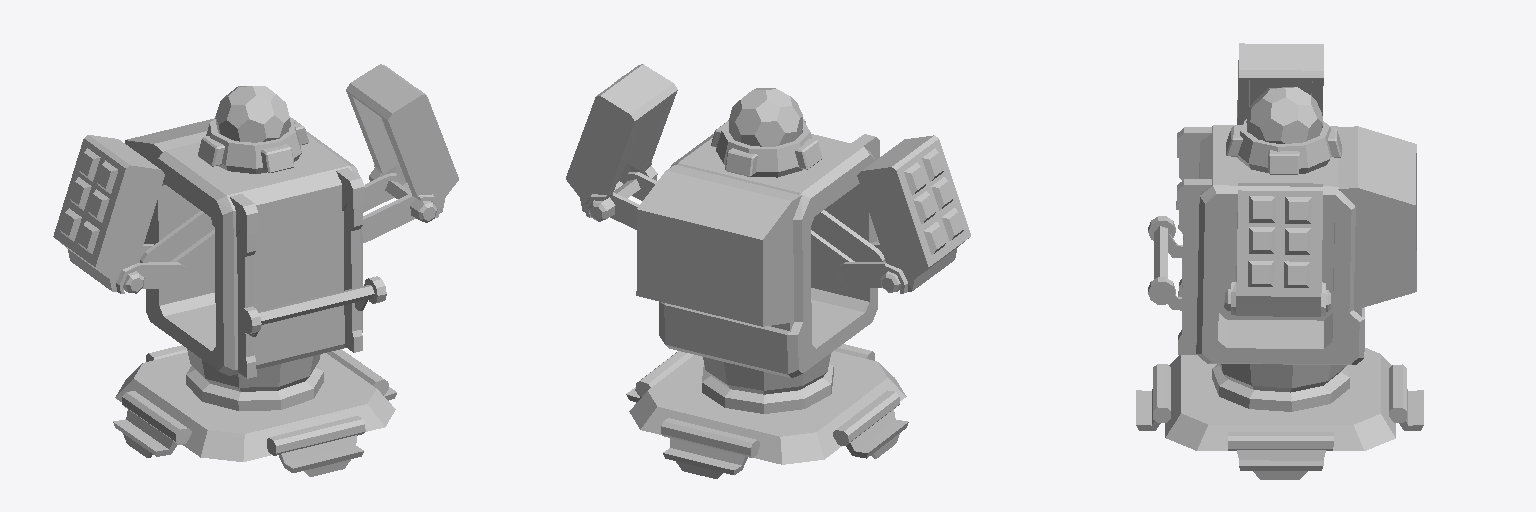
Rendered from bo2trophy.obj.
3 views of the same model, side by side, from view 1: azimuth 30°, elevation 25°; view 2: azimuth 150°, elevation 25°; view 3: azimuth 270°, elevation 25° (orthographic).
Parts seen in each view (by area): view 1: mesh_2114.001, mesh_2114.002; view 2: mesh_2114.001, mesh_2114.002; view 3: mesh_2114.001, mesh_2114.002.
Boxes of the visible parts, <box> form: mesh_2114.001: <box>53,64,458,378</box>; mesh_2114.002: <box>113,345,396,476</box>; mesh_2114.001: <box>566,64,970,377</box>; mesh_2114.002: <box>626,344,908,478</box>; mesh_2114.001: <box>1148,43,1416,364</box>; mesh_2114.002: <box>1136,348,1423,479</box>.
Size of the model in its own units: 28.27 by 24.82 by 19.28.